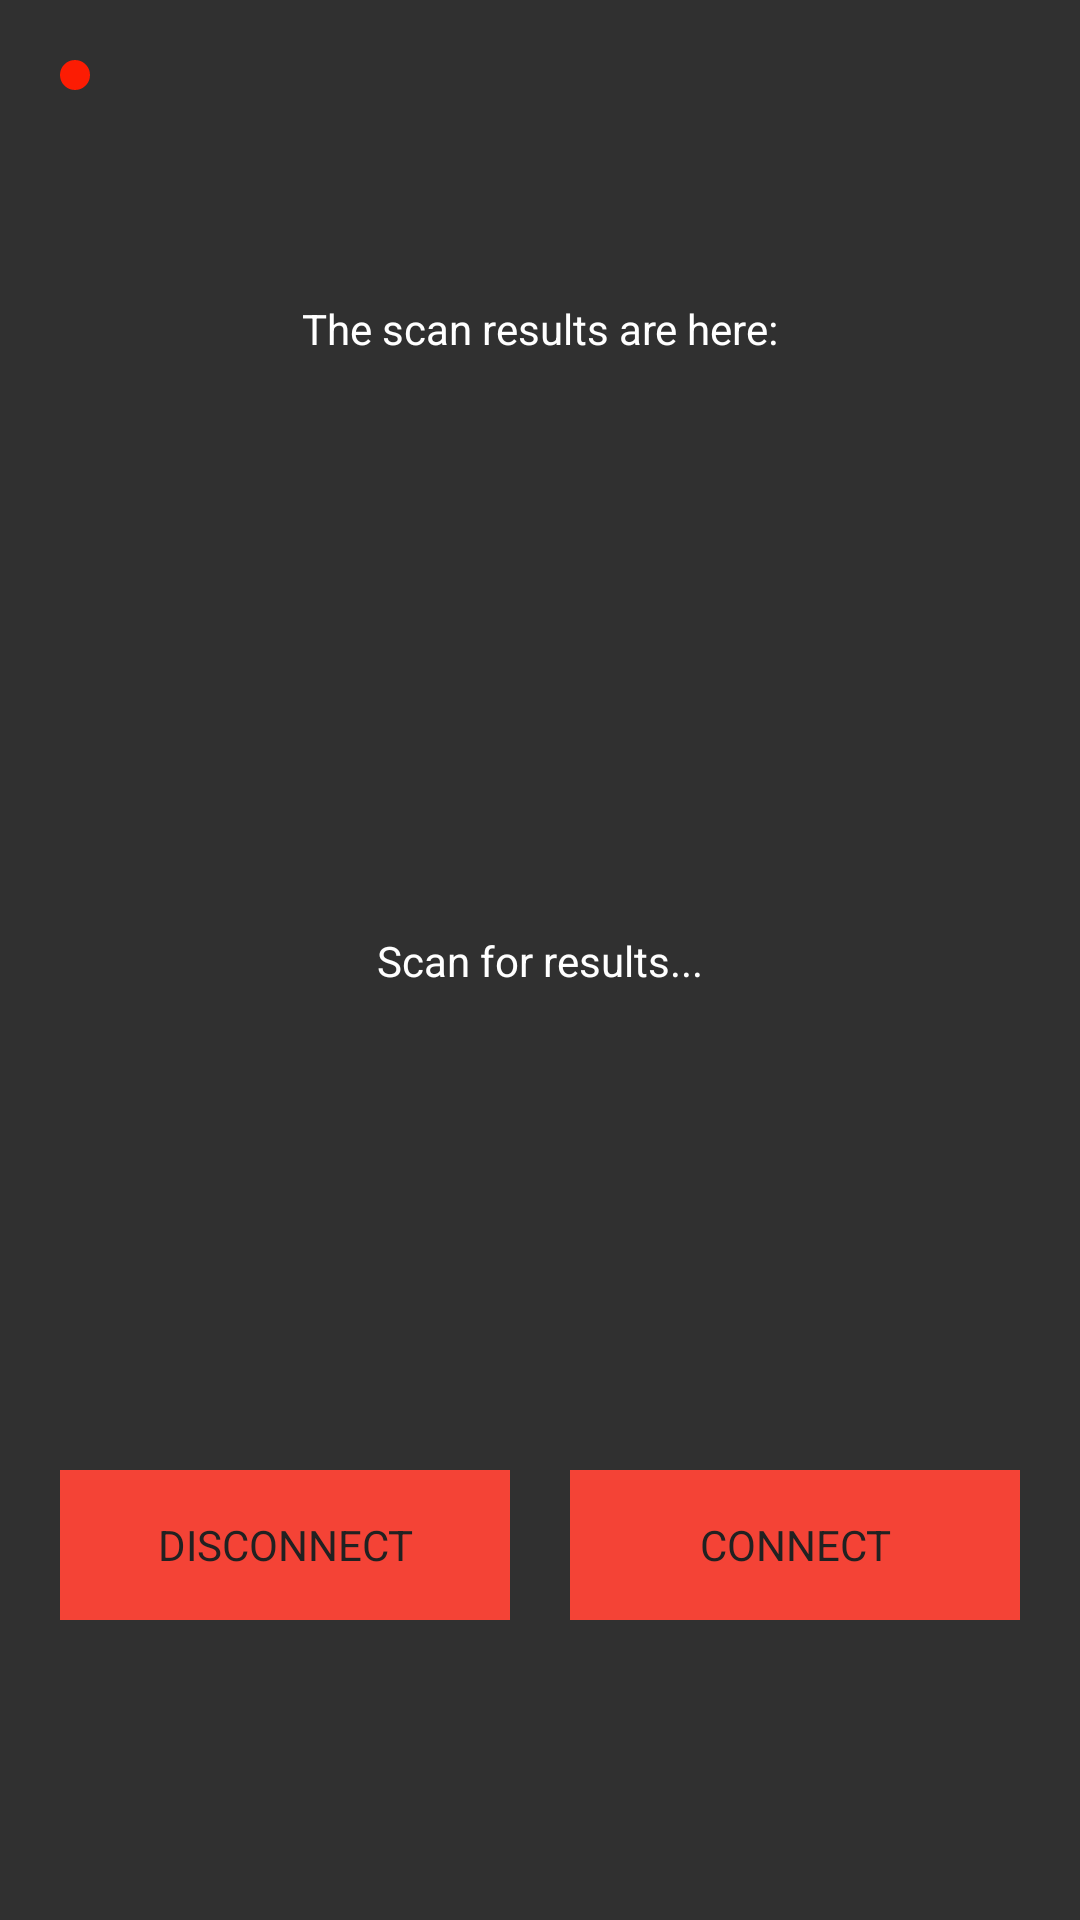

Icon bounding boxes for this 1080×1920 phone screenshot, format bbox=(x1, y1, x2, y2):
status circle: bbox=(60, 60, 90, 90)
